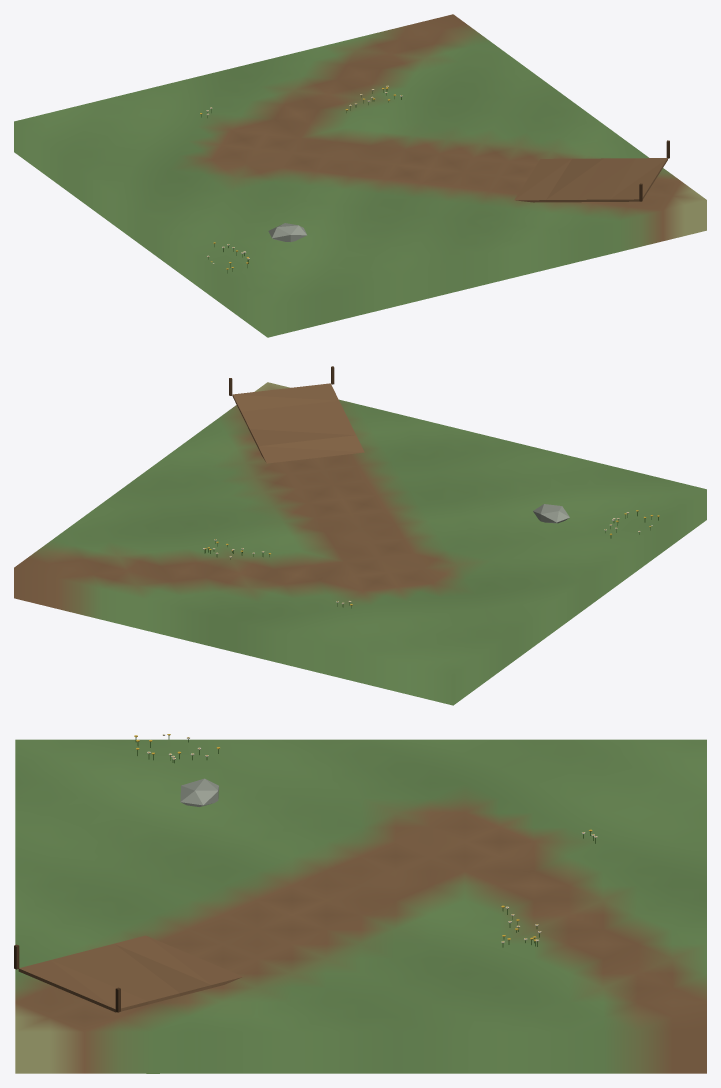
3 renders of one model, top to bottom at view 1: azimuth 30°, elevation 25°; view 2: azimuth 150°, elevation 25°; view 3: azimuth 270°, elevation 25°, orthographic. The views are drawn at different scales.
Visible parts, largest first — view 1: terrain, scenery; view 2: terrain, scenery; view 3: terrain, scenery.
Boxes of the visible parts, left/top/right/bottom form: terrain: left=14, top=14, right=706, bottom=337; scenery: left=200, top=85, right=669, bottom=273; terrain: left=14, top=382, right=706, bottom=705; scenery: left=203, top=366, right=659, bottom=608; terrain: left=15, top=739, right=706, bottom=1073; scenery: left=14, top=734, right=597, bottom=1012.
Bounding box in the file's own units: 30.06 × 4.05 × 30.06.
